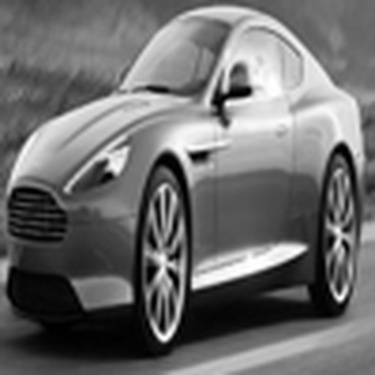car: (8, 7, 365, 351)
